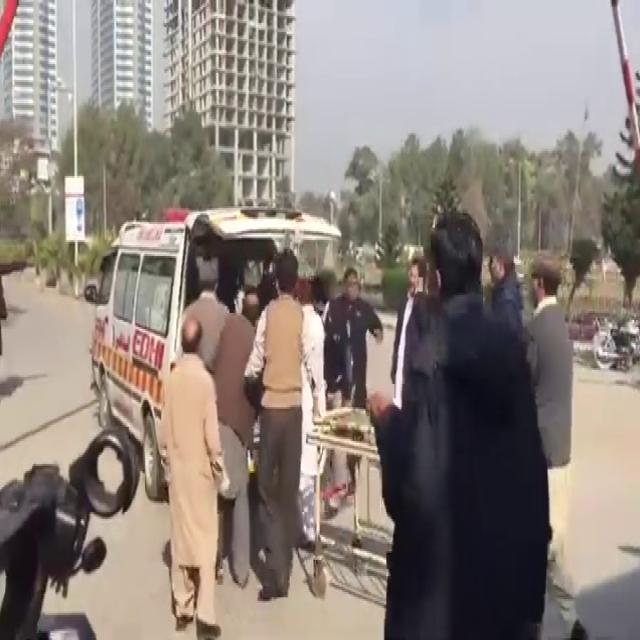ambulance: (83, 216, 305, 463)
